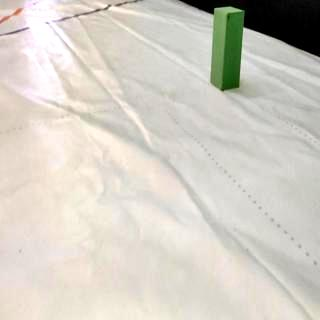greenbox: (210, 5, 246, 90)
